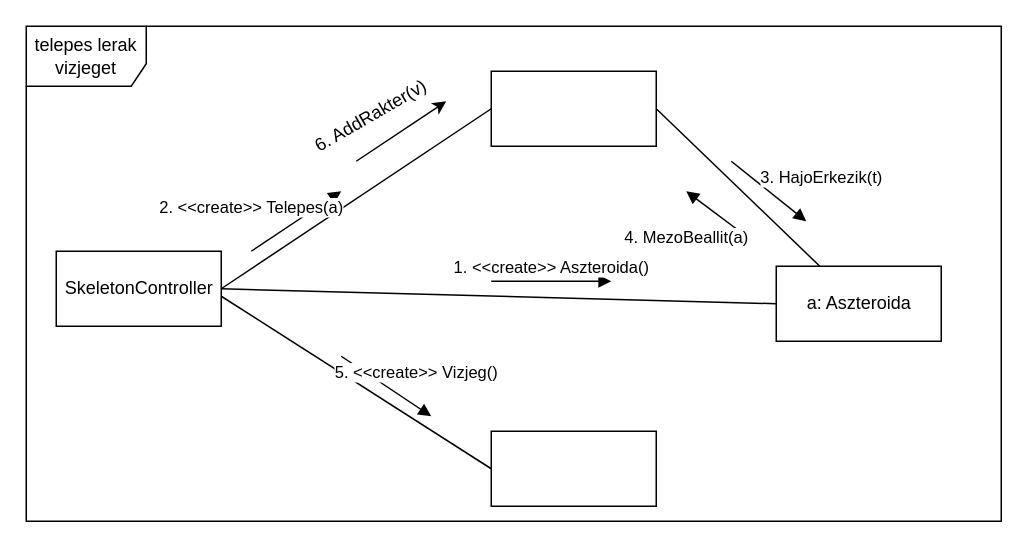
Some shapes in this 1028 by 548 pixel diagram are drawn without their labels. The centre of each missing label's shape, as x and y in pixels:
t: Telepes: (x=573, y=108)
v: Vizjeg: (x=573, y=468)
